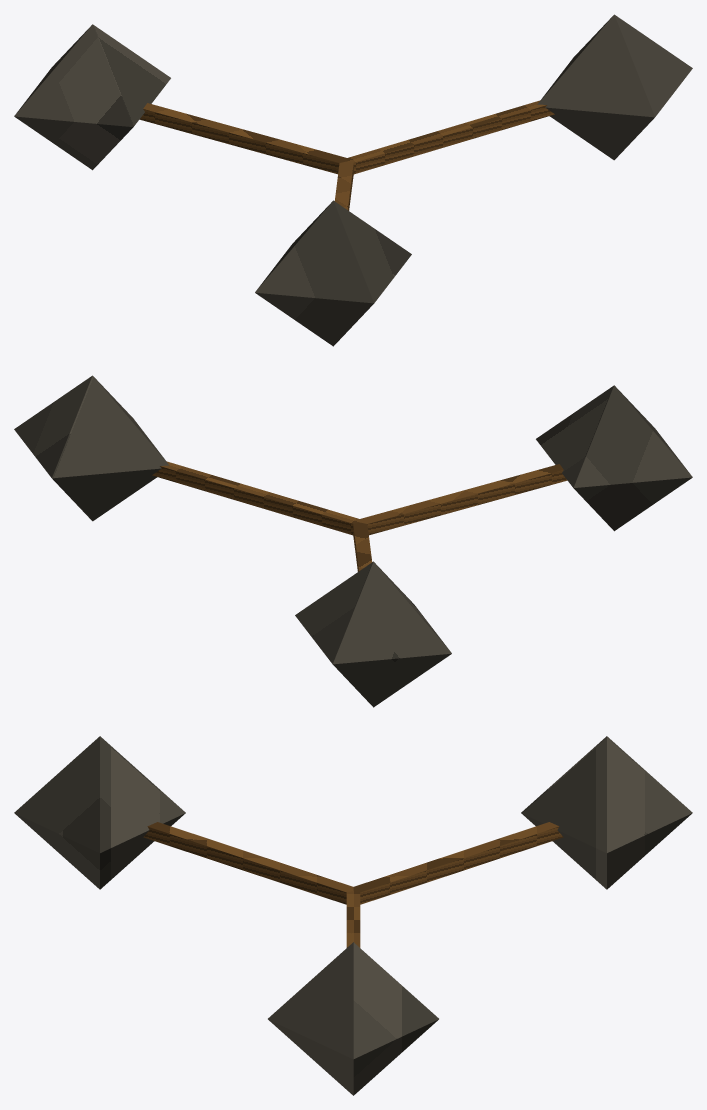
The model's file is boleadoras.glb.
The picture shows the model from 3 angles, top to bottom: view 1: azimuth 30°, elevation 25°; view 2: azimuth 150°, elevation 25°; view 3: azimuth 270°, elevation 25°; orthographic projection. The views are drawn at different scales.
Parts seen in each view (by area): view 1: bolas, cuerdas; view 2: bolas, cuerdas; view 3: bolas, cuerdas.
Part boxes in pixels (bbox=[...]): bolas: bbox=[14, 14, 692, 346]; cuerdas: bbox=[139, 100, 554, 210]; bolas: bbox=[14, 375, 692, 707]; cuerdas: bbox=[152, 461, 567, 571]; bolas: bbox=[14, 736, 692, 1095]; cuerdas: bbox=[143, 822, 563, 947].
Bounding box in the file's own units: 0.4 × 0.1 × 0.4.
1 material, 1 textured.
